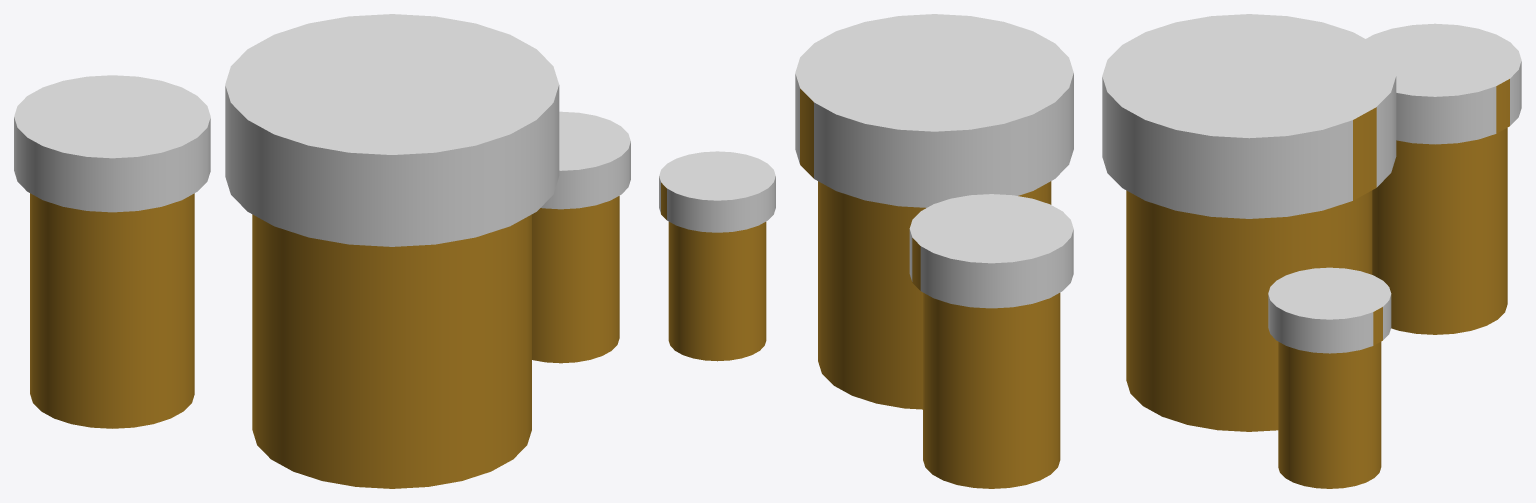
File: medication.fbx
3 renders of one model, left to right at view 1: azimuth 30°, elevation 25°; view 2: azimuth 150°, elevation 25°; view 3: azimuth 270°, elevation 25°, orthographic. The views are drawn at different scales.
Parts seen in each view (by area): view 1: Medication; view 2: Medication; view 3: Medication.
Part boxes in pixels (x1,y1,x2,y2): Medication: (14,14,630,488); Medication: (659,14,1073,488); Medication: (1102,14,1521,488).
Size of the model in its own units: 36.22 by 27.98 by 22.37.
